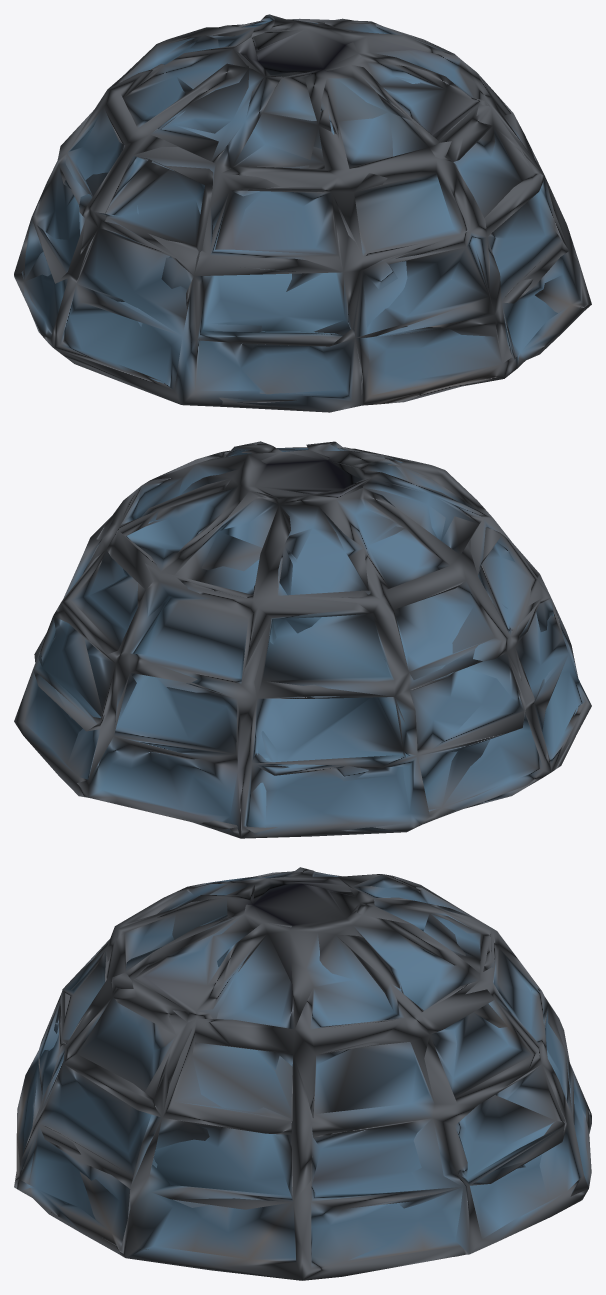
File: gen3d-space-colony-dome-lod0.glb
3 views of the same model, one above another, from view 1: azimuth 30°, elevation 25°; view 2: azimuth 150°, elevation 25°; view 3: azimuth 270°, elevation 25° (orthographic). The views are drawn at different scales.
Visible parts, largest first — view 1: part_0; view 2: part_0; view 3: part_0.
Part boxes in pixels (box(x1,y1,x2,y2)): part_0: box(14, 14, 591, 412); part_0: box(14, 441, 591, 838); part_0: box(14, 867, 591, 1280).
Bounding box in the file's own units: 2.11 × 0.9954 × 2.04.
